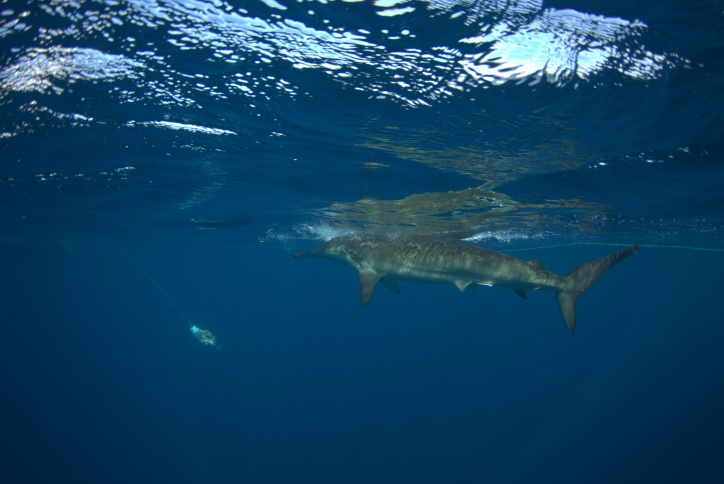Hammer: (283, 199, 644, 347)
